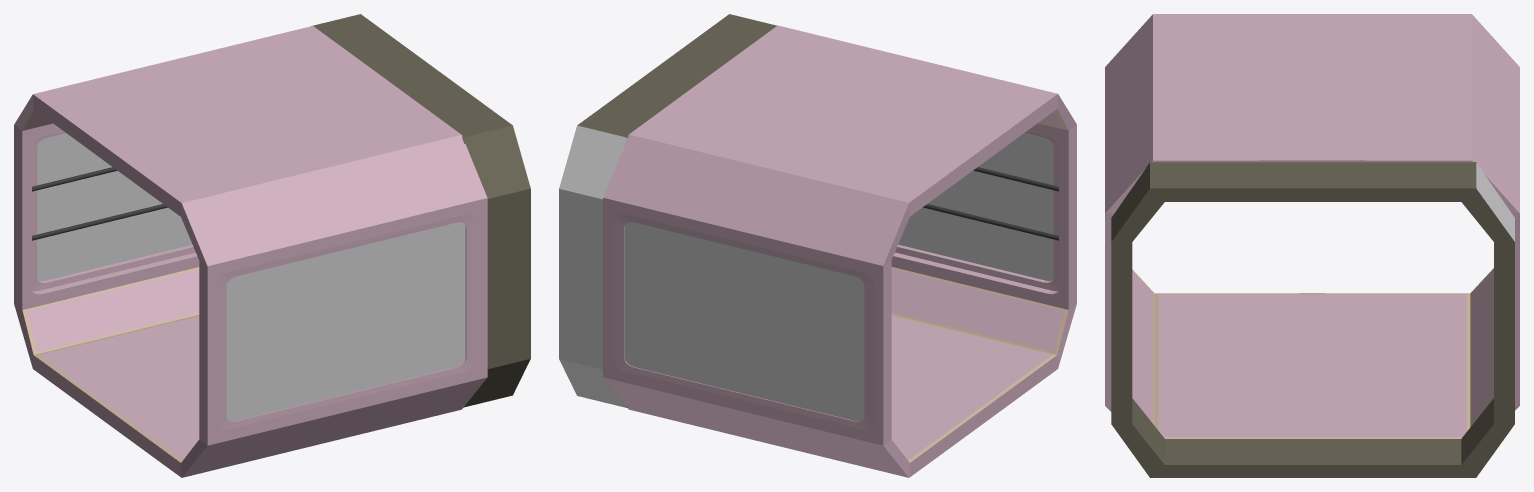
File: hallwaytest2.fbx
3 views of the same model, side by side, from view 1: azimuth 30°, elevation 25°; view 2: azimuth 150°, elevation 25°; view 3: azimuth 270°, elevation 25° (orthographic). The views are drawn at different scales.
Visible parts, largest first — view 1: Cube.010; view 2: Cube.010; view 3: Cube.010.
Boxes of the visible parts, bbox=[...] form: Cube.010: bbox=[14, 14, 530, 477]; Cube.010: bbox=[559, 14, 1076, 477]; Cube.010: bbox=[1105, 14, 1519, 477].
Bounding box in the file's own units: 12.79 × 10.19 × 12.99.
